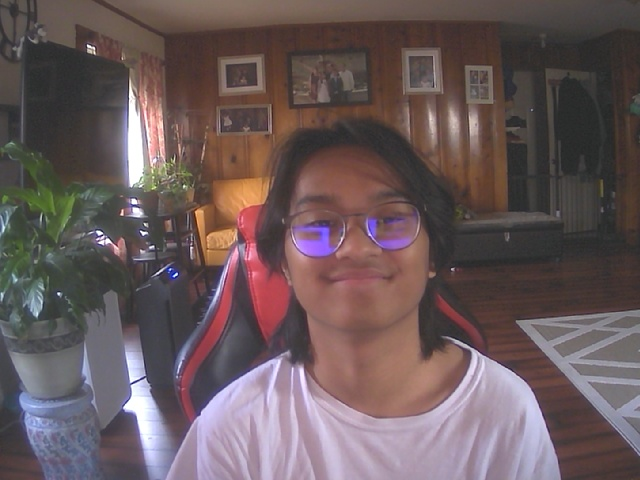happy: (273, 123, 442, 333)
